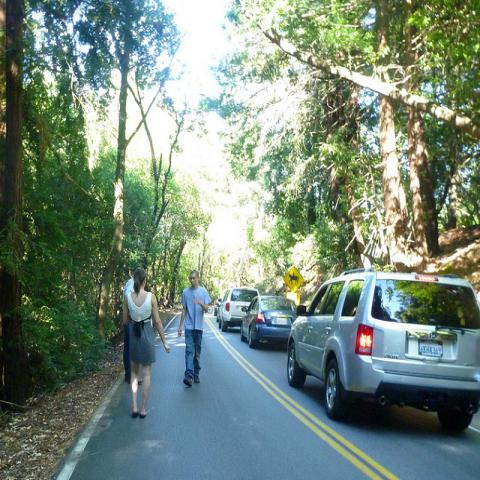car: (284, 270, 480, 430), (239, 298, 295, 352), (218, 286, 260, 333), (214, 303, 218, 316)
truck: (280, 265, 480, 438), (216, 286, 260, 332)
